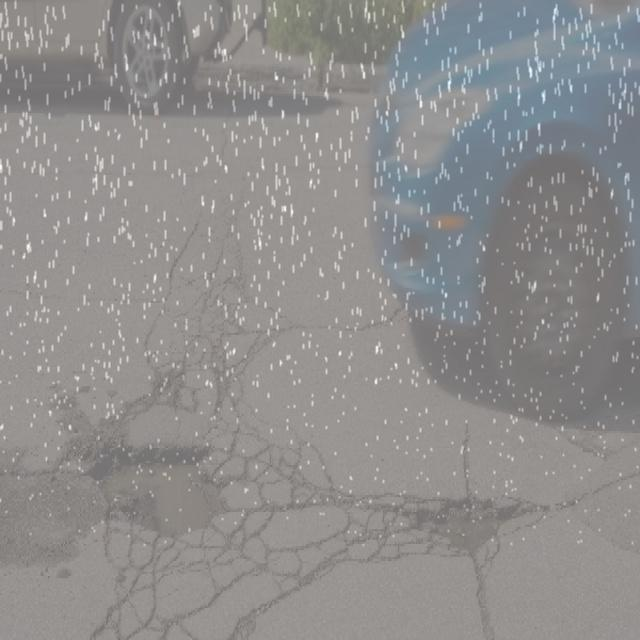Pothole: (66, 407, 244, 548), (385, 473, 554, 576)
